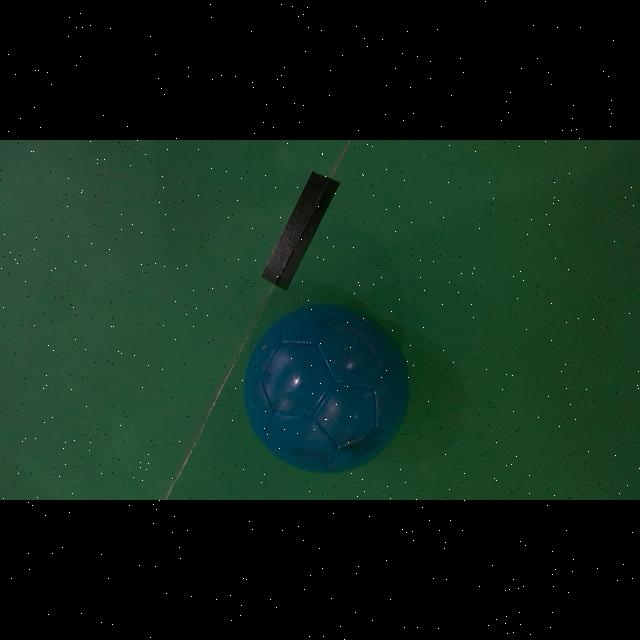B: (245, 305, 408, 472)
